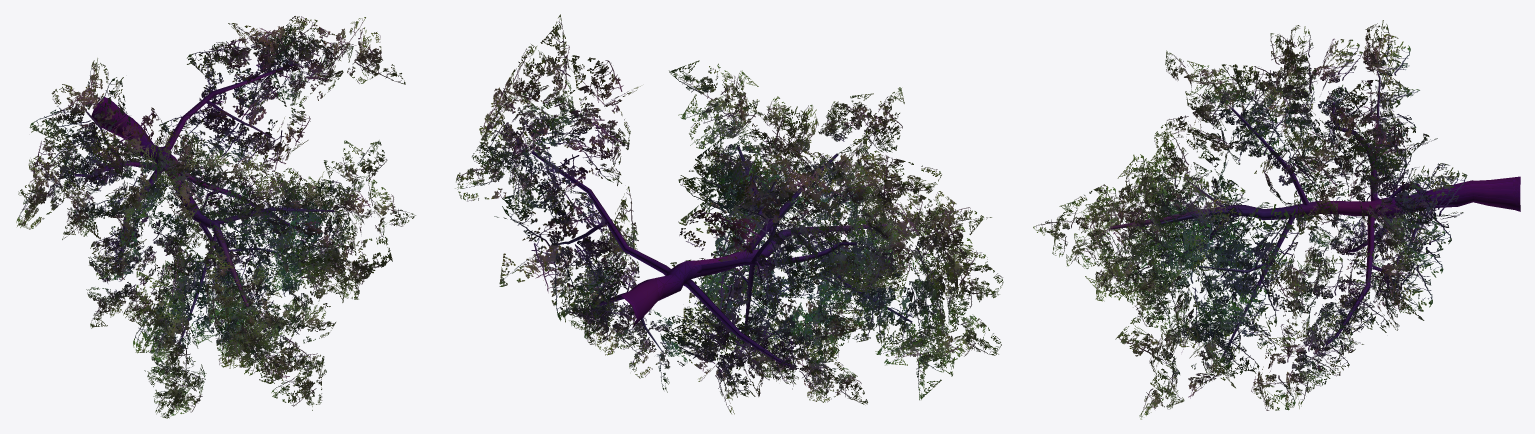
File: oak_big_oak_tree_001_lod2.glb
3 renders of one model, left to right at view 1: azimuth 30°, elevation 25°; view 2: azimuth 150°, elevation 25°; view 3: azimuth 270°, elevation 25°, orthographic. The views are drawn at different scales.
Parts seen in each view (by area): view 1: Big_oak_tree__001_LOD2; view 2: Big_oak_tree__001_LOD2; view 3: Big_oak_tree__001_LOD2.
Boxes of the visible parts, bbox=[...] form: Big_oak_tree__001_LOD2: bbox=[16, 16, 415, 418]; Big_oak_tree__001_LOD2: bbox=[455, 14, 1003, 414]; Big_oak_tree__001_LOD2: bbox=[1033, 20, 1520, 419].
Bounding box in the file's own units: 20.53 × 15.68 × 19.47.
2 materials, 2 textured.
